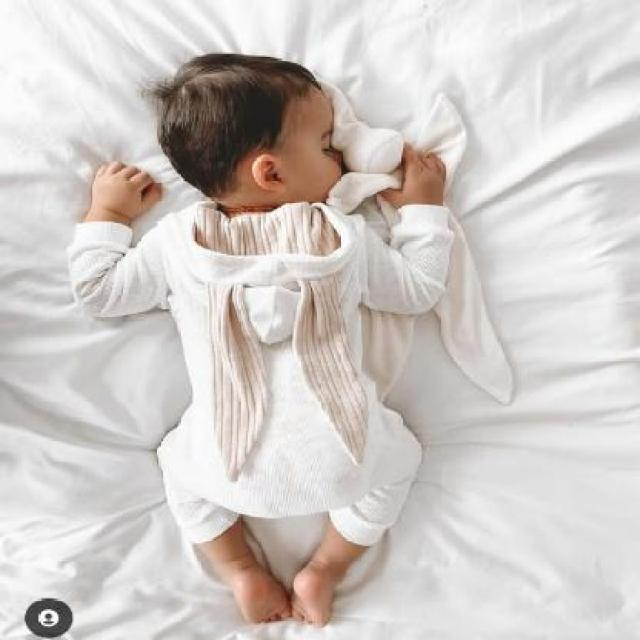baby: (65, 52, 448, 620)
